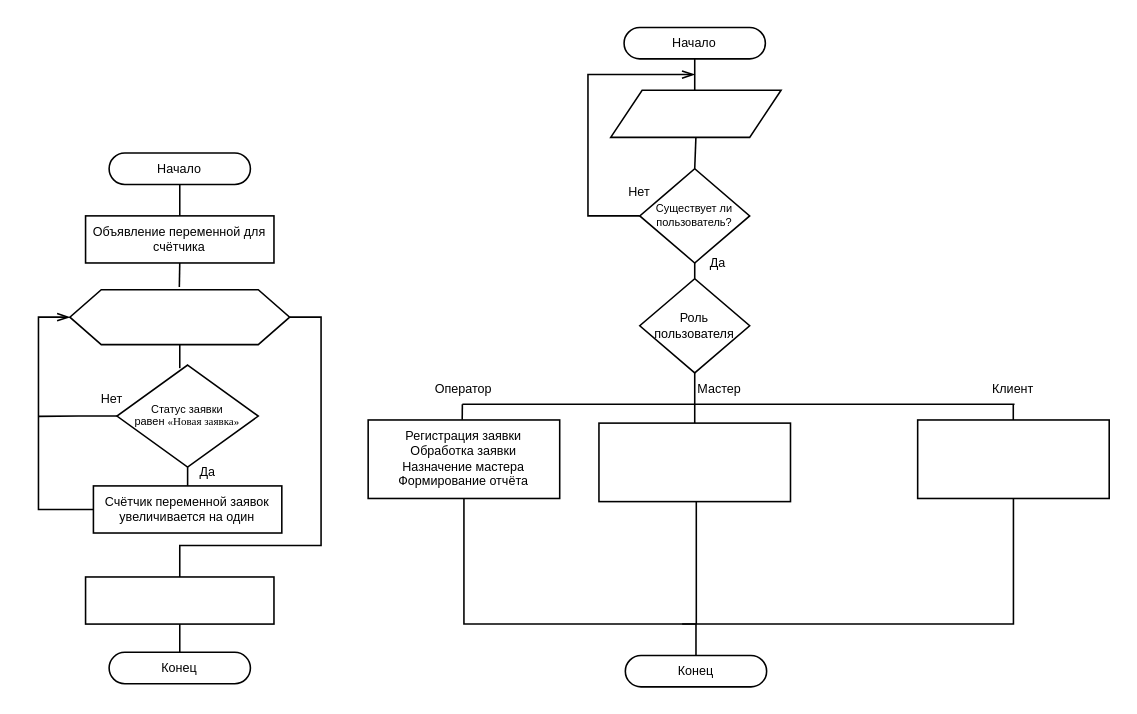
This 1137x714 diagram has some shape labels left out. Each missing label, with the centre of its shape:
"Ввод логина и пароля" goes at (695,113).
"Вывод сообщения о количестве заявок" goes at (179,599).
"Исполнение заявки Формирование отчёта" goes at (693,462).
"Создание и редактирование заявки" goes at (1012,458).
"Цикл Проходит по строкам таблицы" goes at (179,316).
